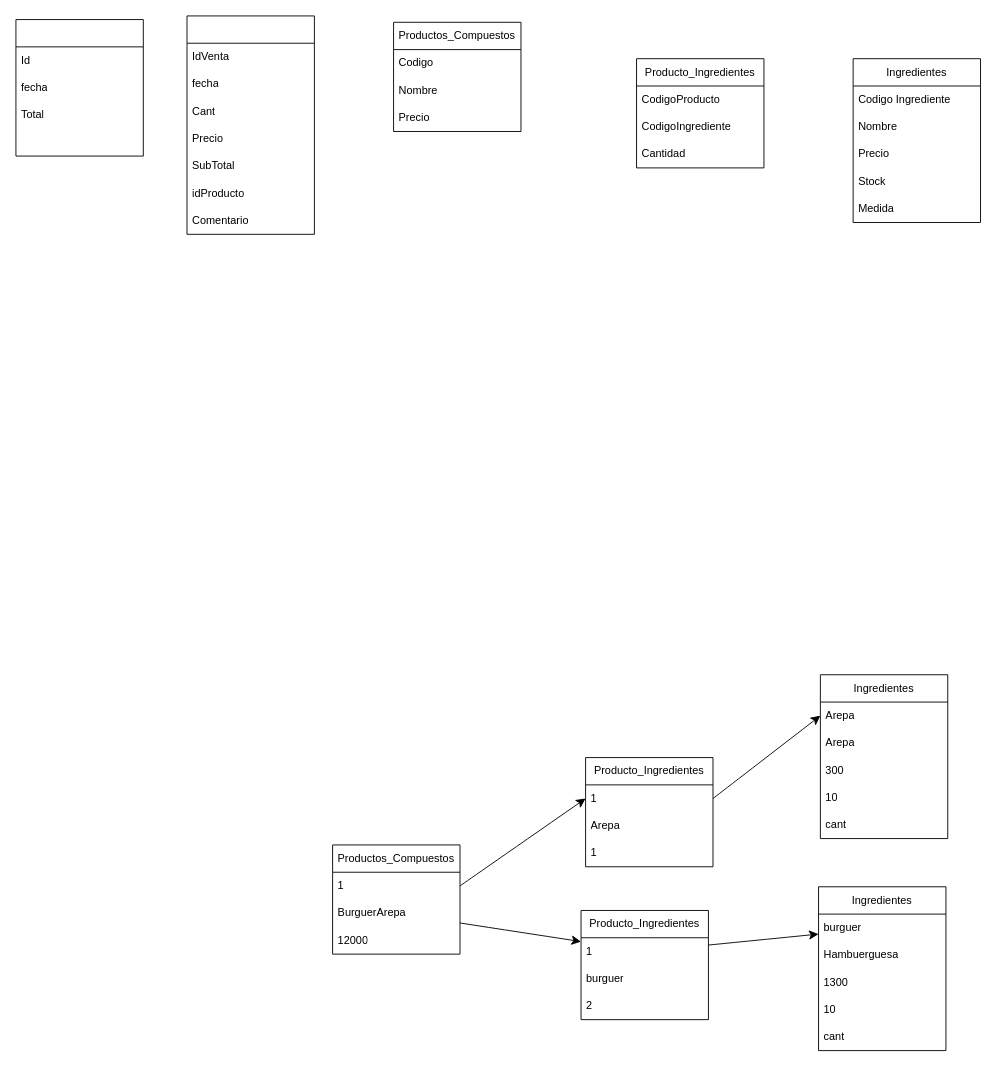
The diagram is 996 pixels wide and 1067 high, and some of its shapes have lost their labels. Each missing label, with the box of its shape:
Productos_Venta: (186, 15, 314, 234)
Venta: (15, 19, 143, 156)
